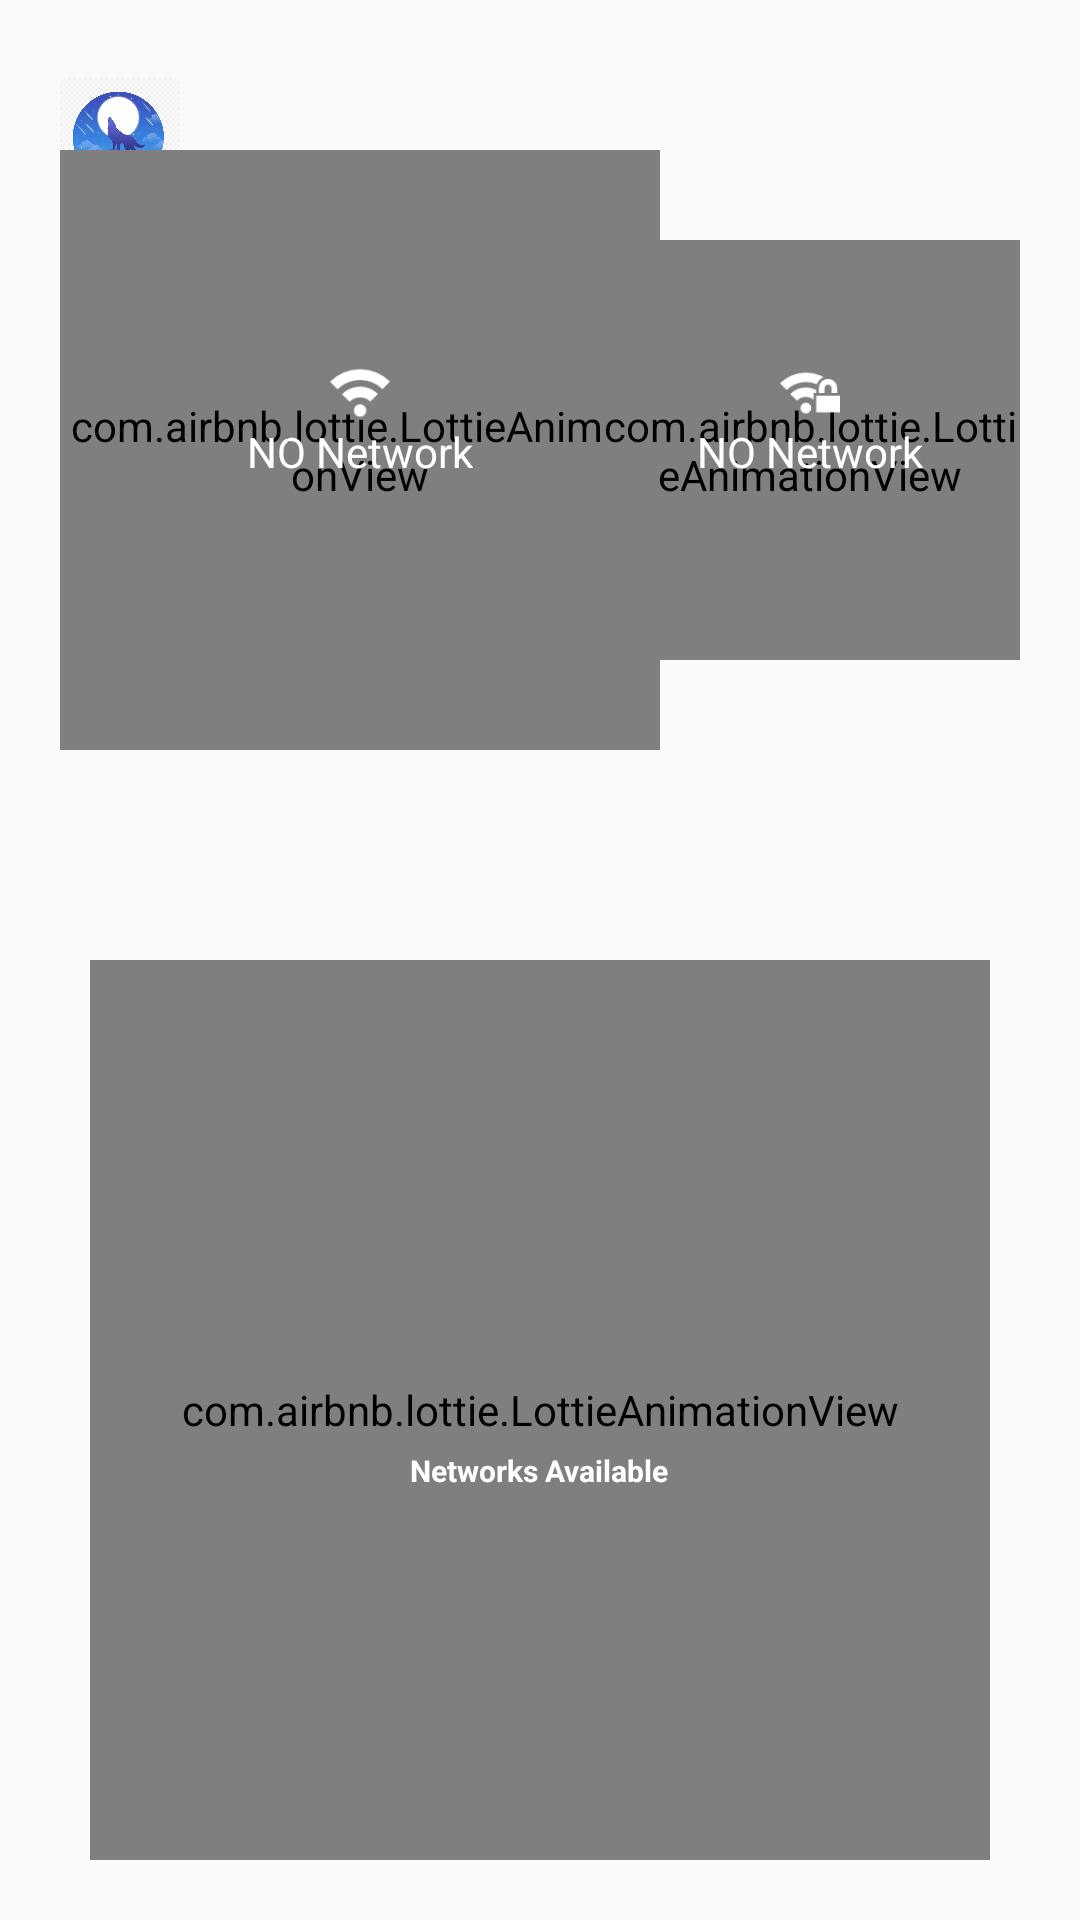

Icons on this 1080x1920 Android screen, each with its box as (x1, y1, x2, y2):
closed network: (780, 372, 838, 414)
open network: (330, 369, 390, 417)
